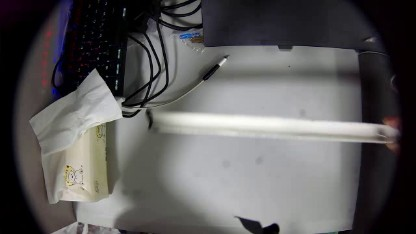gangzhu: (376, 127, 386, 142)
